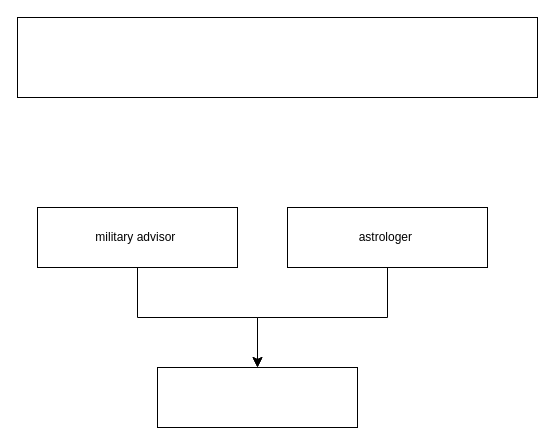
This 555x445 diagram has some shape labels left out. The centre of each missing label's shape, as x and y in pixels:
Al-Mahdi: the point at 277,57
Nestorian Theophilus of Edessa: the point at 257,397
